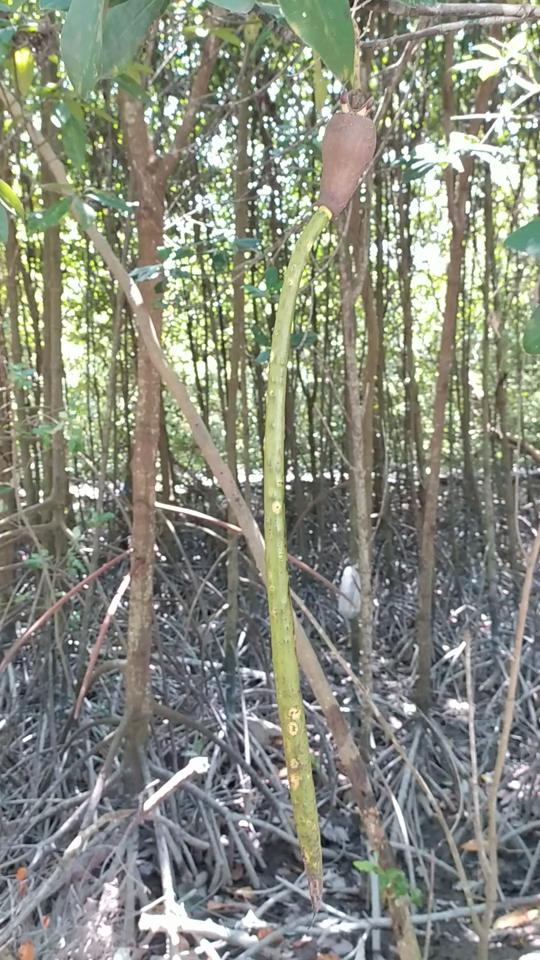setengah matang: (254, 82, 387, 912)
